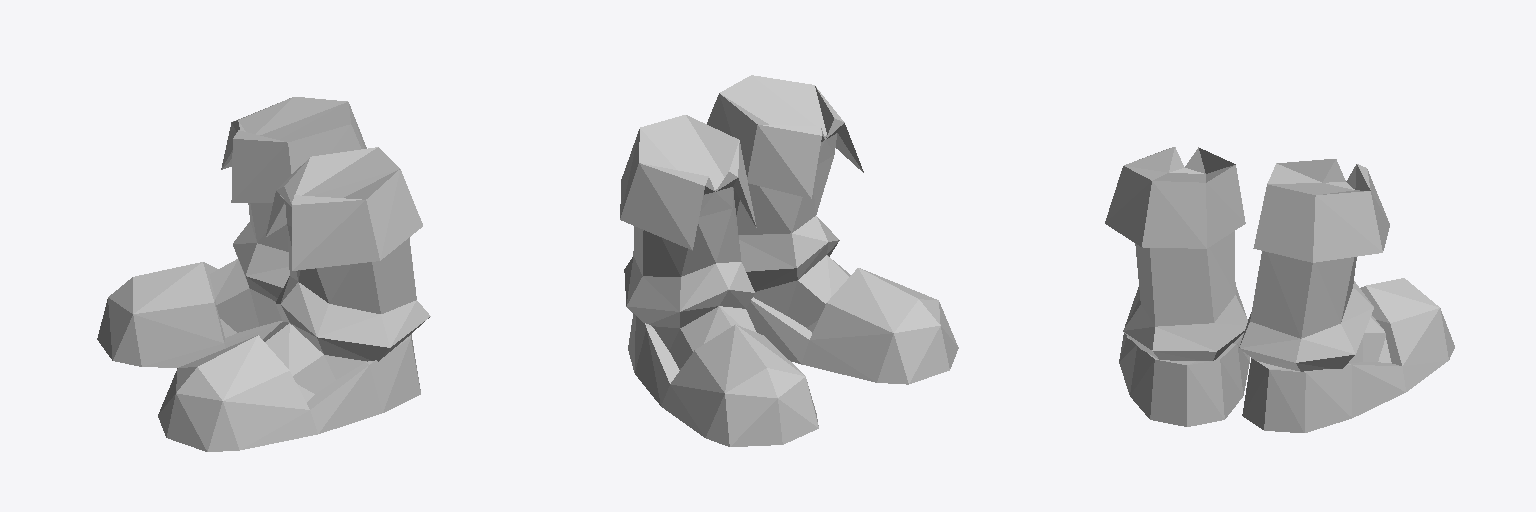
Rendered from IronBoots.obj.
The picture shows the model from 3 angles: view 1: azimuth 30°, elevation 25°; view 2: azimuth 150°, elevation 25°; view 3: azimuth 270°, elevation 25°; orthographic projection.
Visible parts, largest first — view 1: ironboots_leather_geom-02A45BDB, ironboots_iron_geom-03C73AB4; view 2: ironboots_leather_geom-02A45BDB, ironboots_iron_geom-03C73AB4; view 3: ironboots_leather_geom-02A45BDB, ironboots_iron_geom-03C73AB4.
Boxes of the visible parts, x1,y1,x2,y2 form: ironboots_leather_geom-02A45BDB: [209, 97, 430, 402]; ironboots_iron_geom-03C73AB4: [97, 262, 420, 451]; ironboots_leather_geom-02A45BDB: [620, 75, 863, 369]; ironboots_iron_geom-03C73AB4: [628, 268, 958, 446]; ironboots_leather_geom-02A45BDB: [1105, 147, 1391, 371]; ironboots_iron_geom-03C73AB4: [1119, 278, 1454, 432].
Bounding box in the file's own units: 0.7107 × 0.5753 × 0.7946.